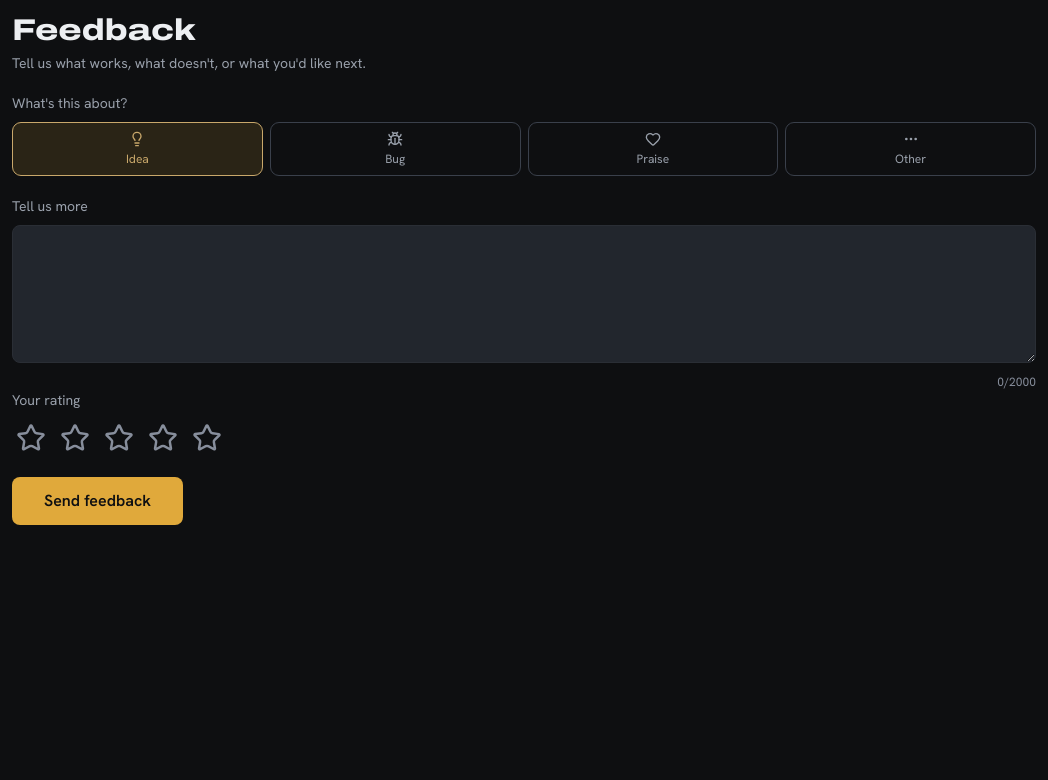
Test case: blocks submit and shows an error when the message is empty
The width and height of the screenshot is (1048, 780).
Click the button named "rate 4" at coordinates (163, 438), box [144, 419, 182, 457]
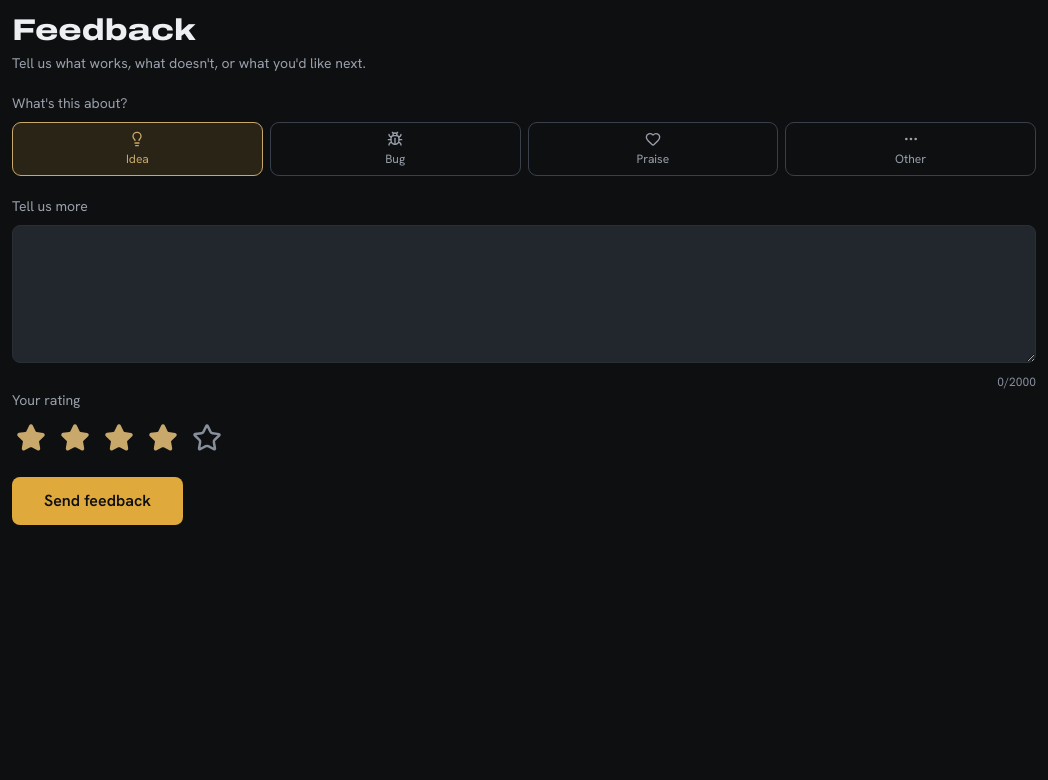
Click the button "Send feedback" at coordinates (98, 501), box [12, 477, 183, 525]
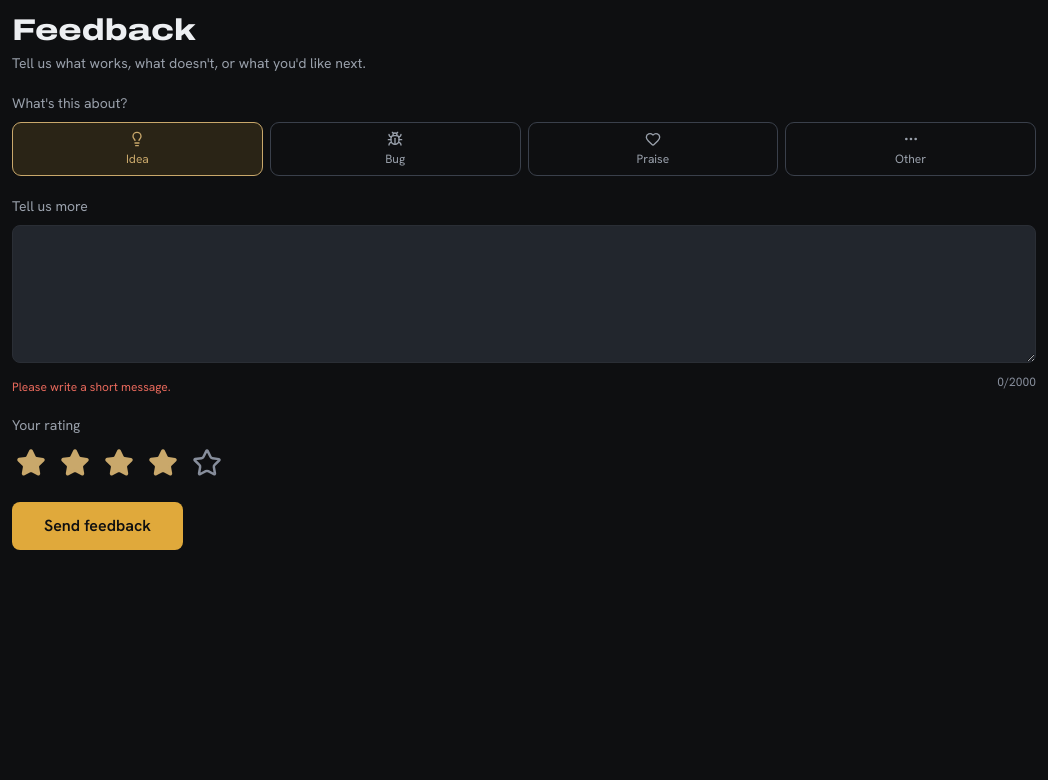
Check: the text "Please write a short message." is shown, box [12, 379, 171, 395]
